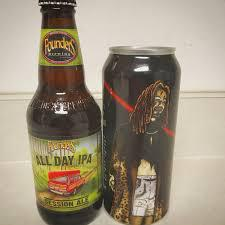beer: (28, 1, 178, 224)
